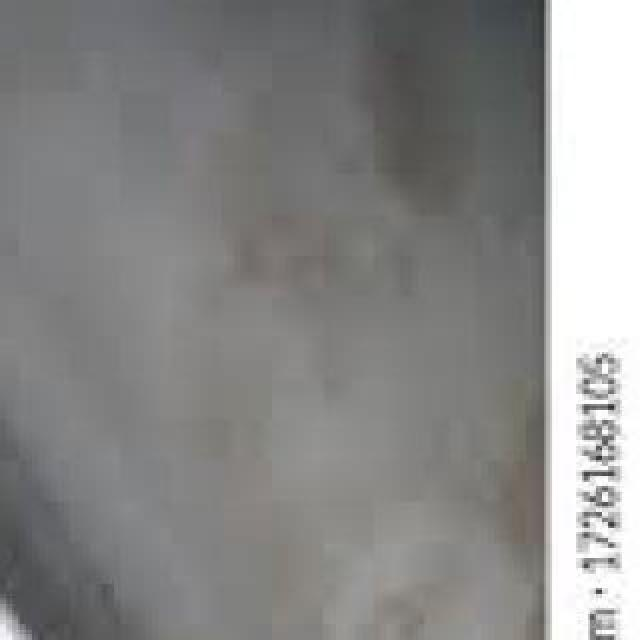fluorescent tube: (0, 148, 456, 640)
